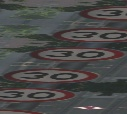Speed limit: (30, 43, 125, 65), (2, 63, 100, 82), (52, 24, 126, 43)
